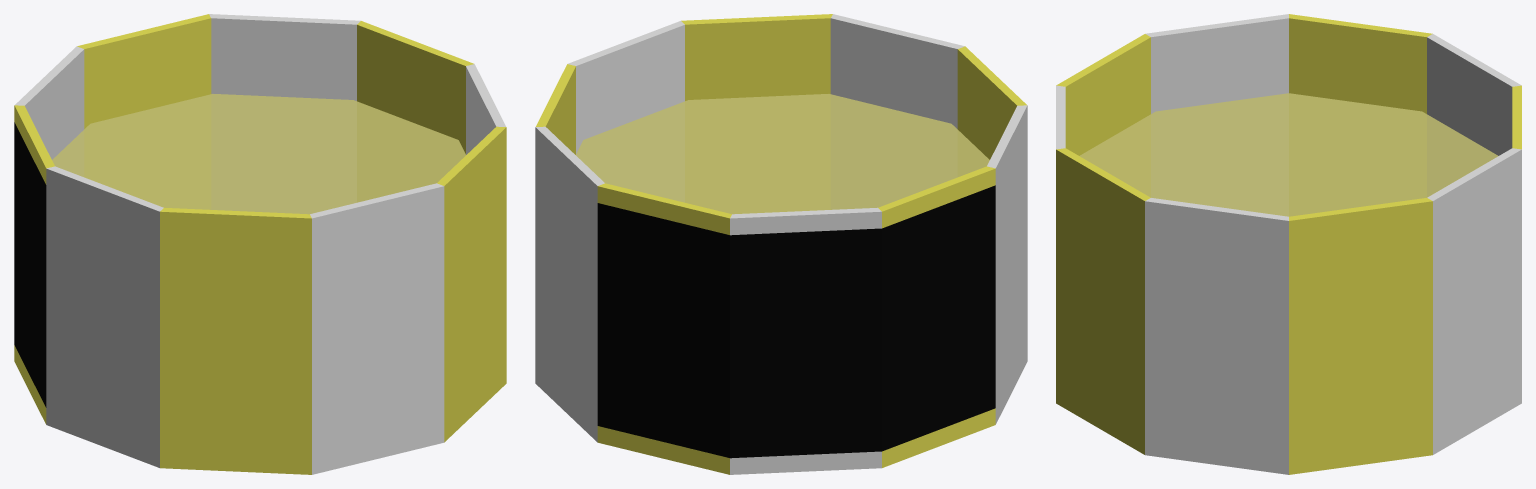
Rendered from IceCupLargeOpen.fbx.
3 renders of one model, left to right at view 1: azimuth 30°, elevation 25°; view 2: azimuth 150°, elevation 25°; view 3: azimuth 270°, elevation 25°, orthographic.
Visible parts, largest first — view 1: IceCupOpenMedium, Ice4; view 2: IceCupOpenMedium, Ice4; view 3: IceCupOpenMedium, Ice4.
Part boxes in pixels (x1,y1,x2,y2): IceCupOpenMedium: [14, 14, 506, 474]; Ice4: [52, 94, 465, 214]; IceCupOpenMedium: [535, 14, 1027, 474]; Ice4: [576, 94, 989, 214]; IceCupOpenMedium: [1056, 14, 1521, 474]; Ice4: [1079, 93, 1498, 216].
Bounding box in the file's own units: 16.46 × 9.42 × 15.66.
